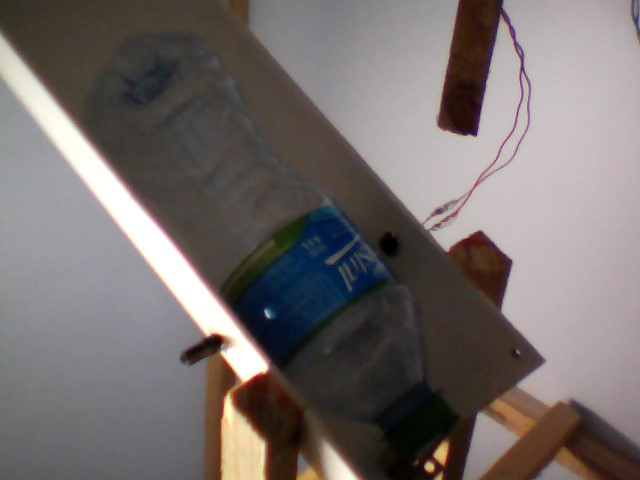plastico: (75, 22, 470, 464)
